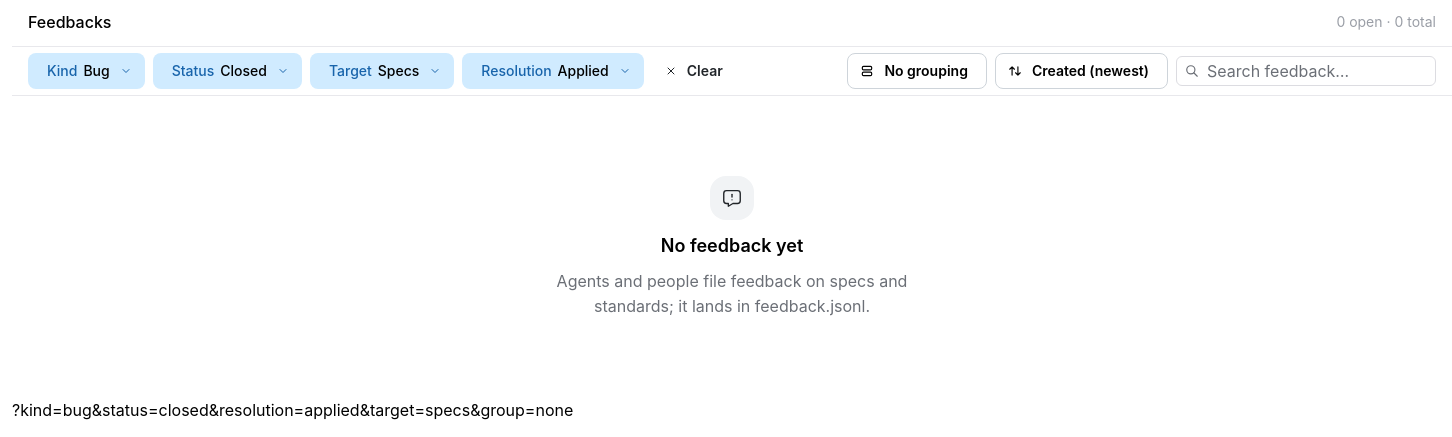
Test case: list "Clear" removes every filter in one URL update › Feedback list: kind, status, resolution and target all cleared; grouping kept
Click the button "Clear".
click(697, 71)  # box [652, 53, 742, 89]
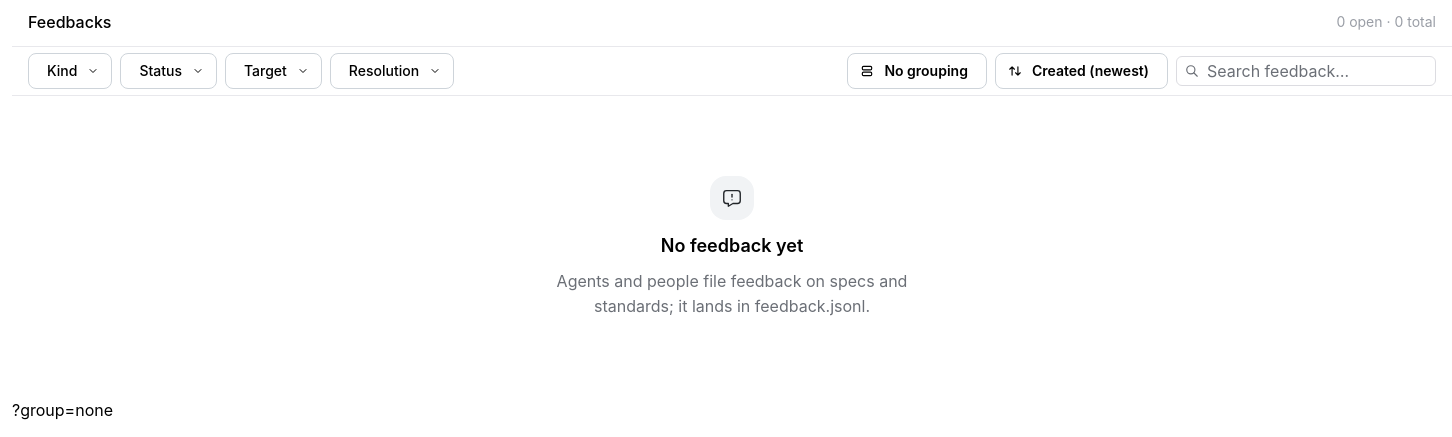
Now the text with test id "where" reads "?group=none", box [12, 400, 113, 420]
